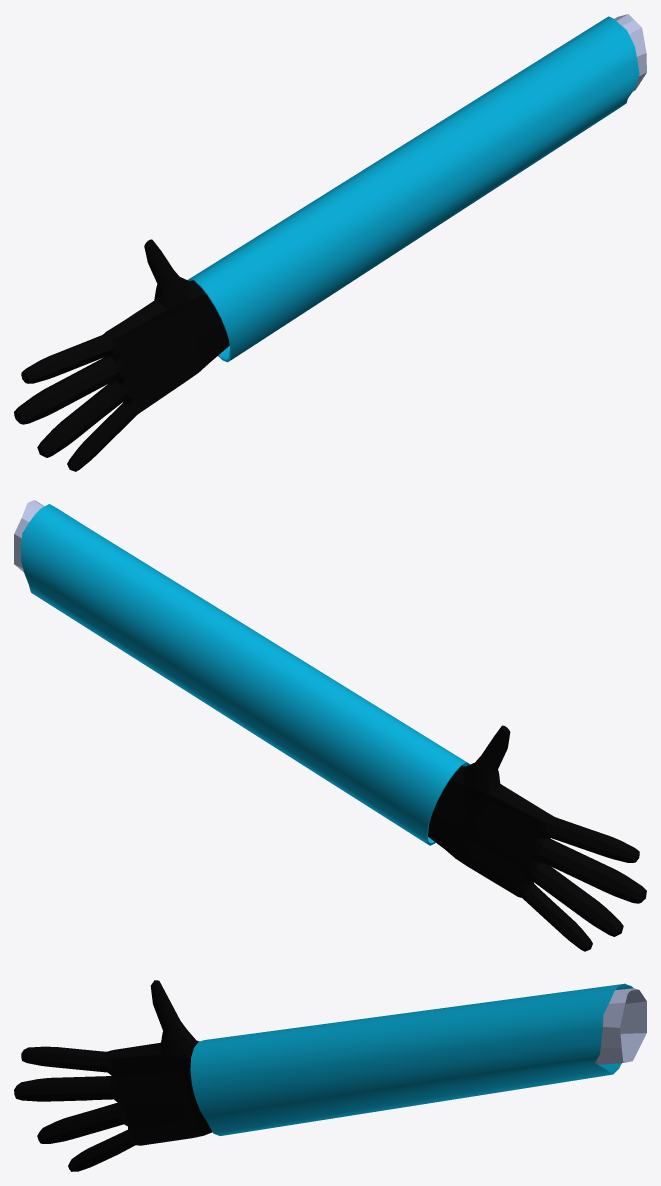
File: arm_straight.fbx
3 renders of one model, top to bottom at view 1: azimuth 30°, elevation 25°; view 2: azimuth 150°, elevation 25°; view 3: azimuth 330°, elevation 25°, orthographic.
Visible parts, largest first — view 1: shirt, armature; view 2: shirt, armature; view 3: shirt, armature.
Part boxes in pixels (x1=…): shirt: x1=187, y1=16, x2=639, y2=362; armature: x1=14, y1=14, x2=646, y2=471; shirt: x1=20, y1=504, x2=469, y2=845; armature: x1=14, y1=500, x2=646, y2=951; shirt: x1=190, y1=983, x2=633, y2=1135; armature: x1=14, y1=980, x2=646, y2=1171.
Bounding box in the file's own units: 0.0505 × 0.0247 × 0.00557.
